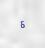six: (19, 20, 24, 27)
